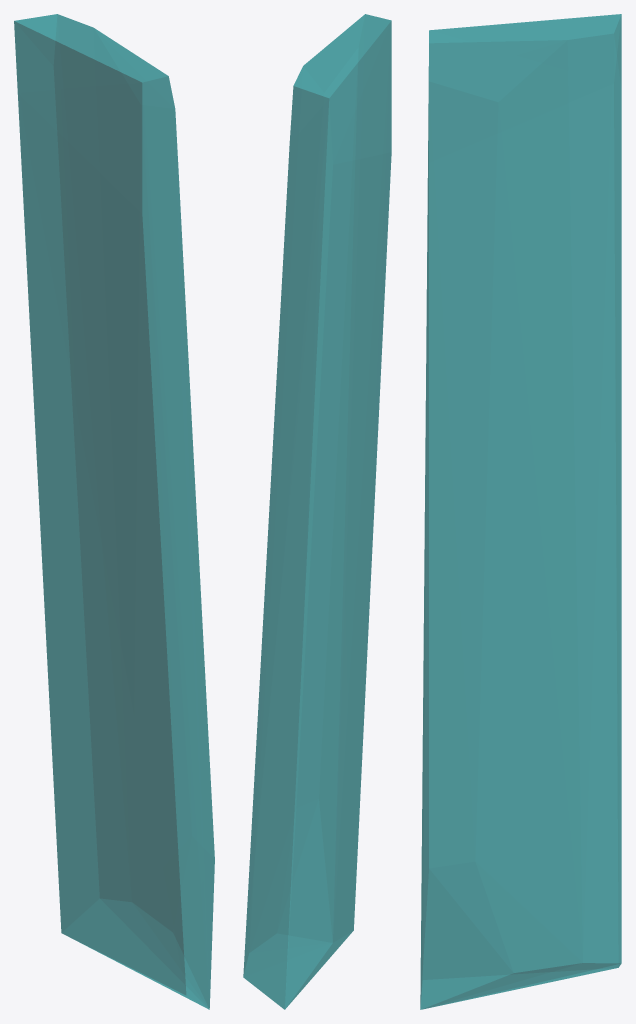
3 renders of one model, left to right at view 1: azimuth 30°, elevation 25°; view 2: azimuth 150°, elevation 25°; view 3: azimuth 270°, elevation 25°, orthographic.
Visible parts, largest first — view 1: Shape_IndexedFaceSet.026_Shape_IndexedFaceSet.3683; view 2: Shape_IndexedFaceSet.026_Shape_IndexedFaceSet.3683; view 3: Shape_IndexedFaceSet.026_Shape_IndexedFaceSet.3683.
Part boxes in pixels (<box>): Shape_IndexedFaceSet.026_Shape_IndexedFaceSet.3683: <box>14,14,214,1009</box>; Shape_IndexedFaceSet.026_Shape_IndexedFaceSet.3683: <box>243,14,391,1009</box>; Shape_IndexedFaceSet.026_Shape_IndexedFaceSet.3683: <box>420,14,621,1009</box>.
Size of the model in its own units: 0.0448 by 0.3806 by 0.0732.
